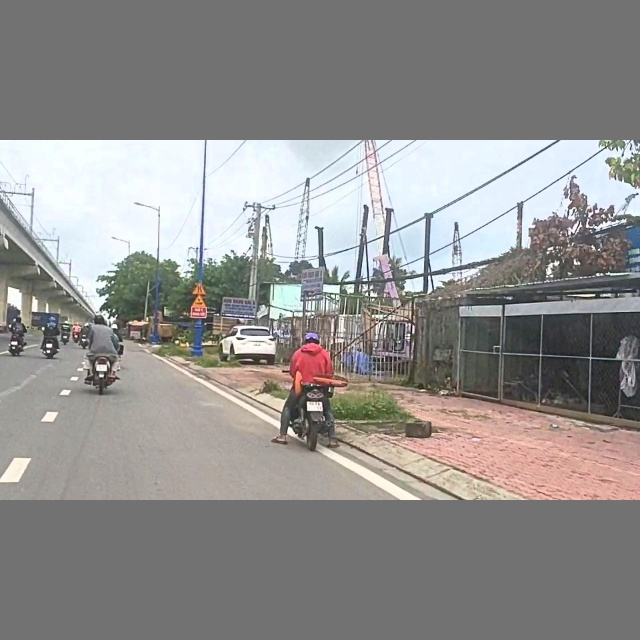W.203c: (191, 281, 208, 295)
W.245a: (191, 294, 207, 306)
